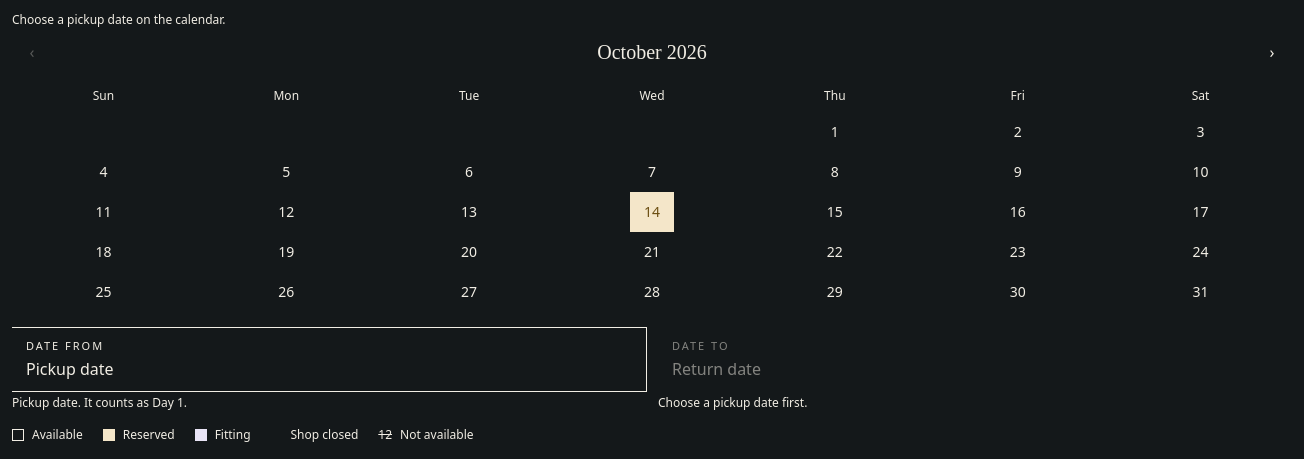
storefront Date from / Date to controls the shared calendar › shows the earliest return date and disables earlier dates while editing the return
Click the button named "October 5". click: (286, 172)
box: [264,152,308,192]
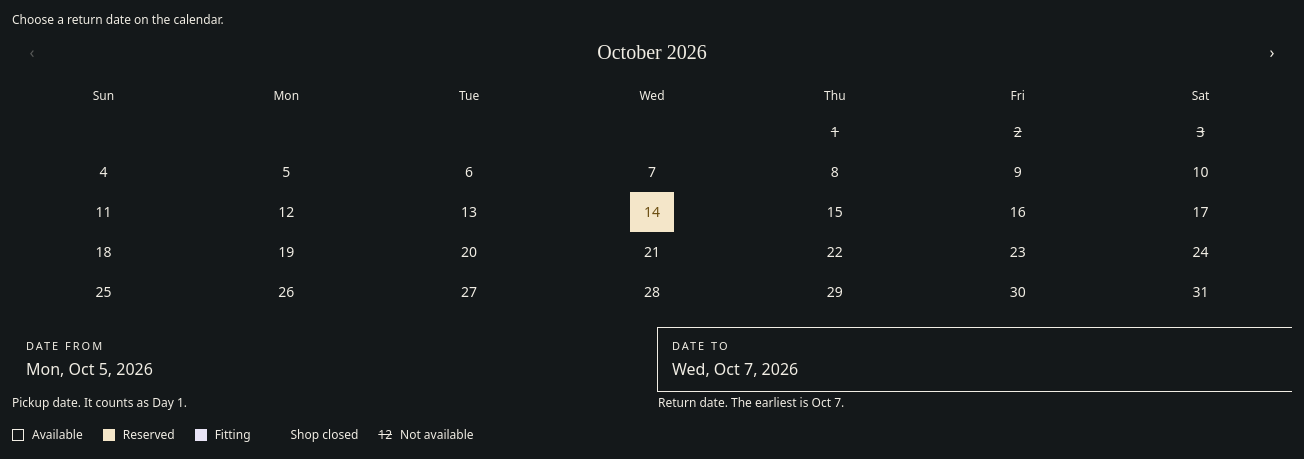
Expected: the button named "October 6" is disabled, [447,152,491,192]
Expected: the text "Return date. The earliest is Oct 7." is shown, [658,394,844,410]
